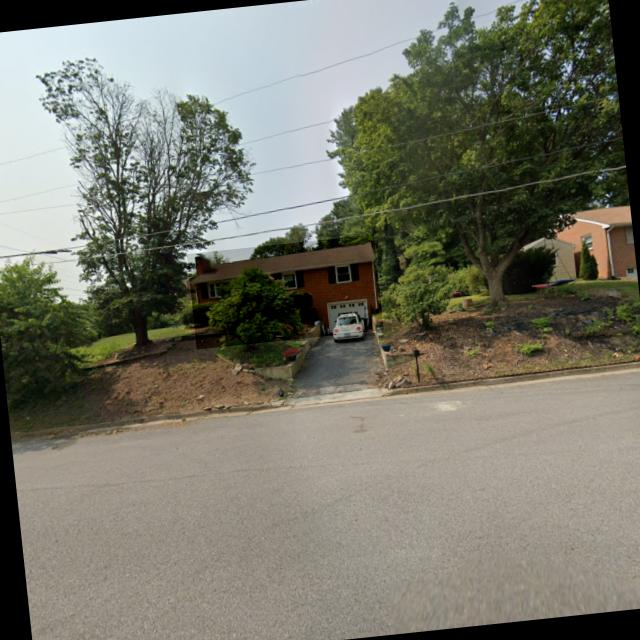House: (186, 234, 384, 349)
